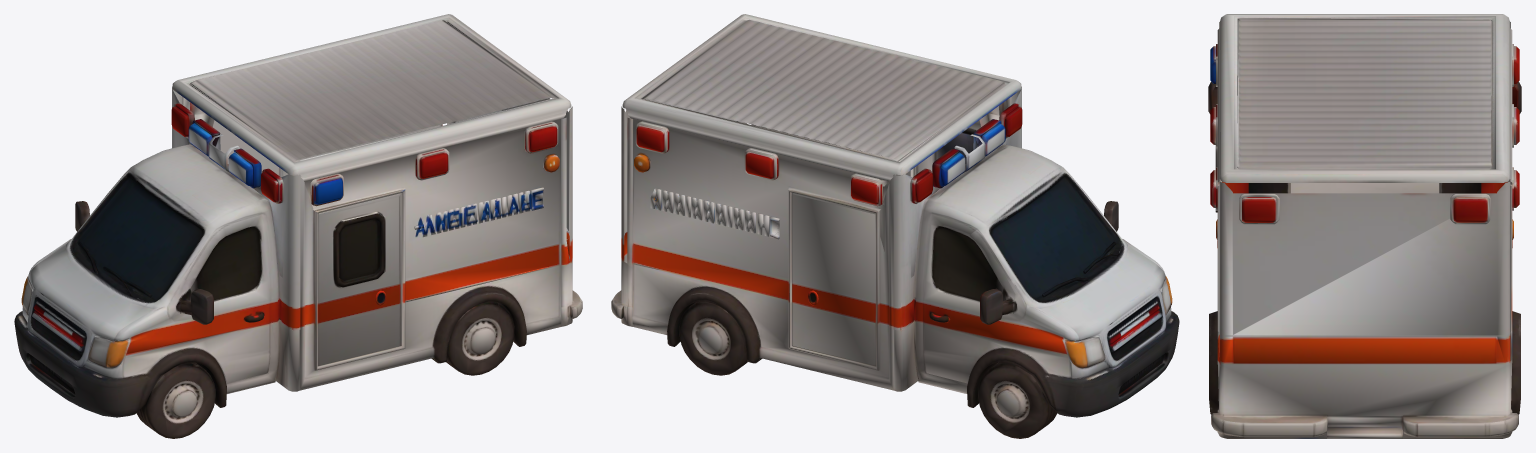
Rendered from an_ambulance_dcfb4afb_v1.glb.
3 views of the same model, side by side, from view 1: azimuth 30°, elevation 25°; view 2: azimuth 150°, elevation 25°; view 3: azimuth 270°, elevation 25° (orthographic). The views are drawn at different scales.
Visible parts, largest first — view 1: material; view 2: material; view 3: material.
Part boxes in pixels (x1,y1,x2,y2): material: (14,14,582,438); material: (611,14,1179,438); material: (1208,14,1521,438).
Size of the model in its own units: 1.9 by 0.9561 by 0.908.
1 material, 1 textured.
